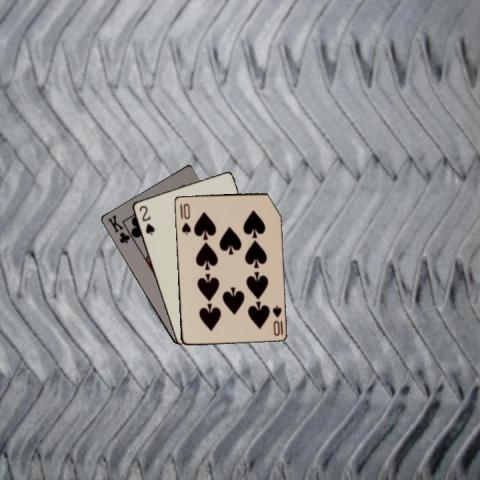10s: (269, 302, 283, 337), (179, 200, 192, 235)
2s: (136, 202, 156, 236)
Kc: (104, 212, 130, 245)
